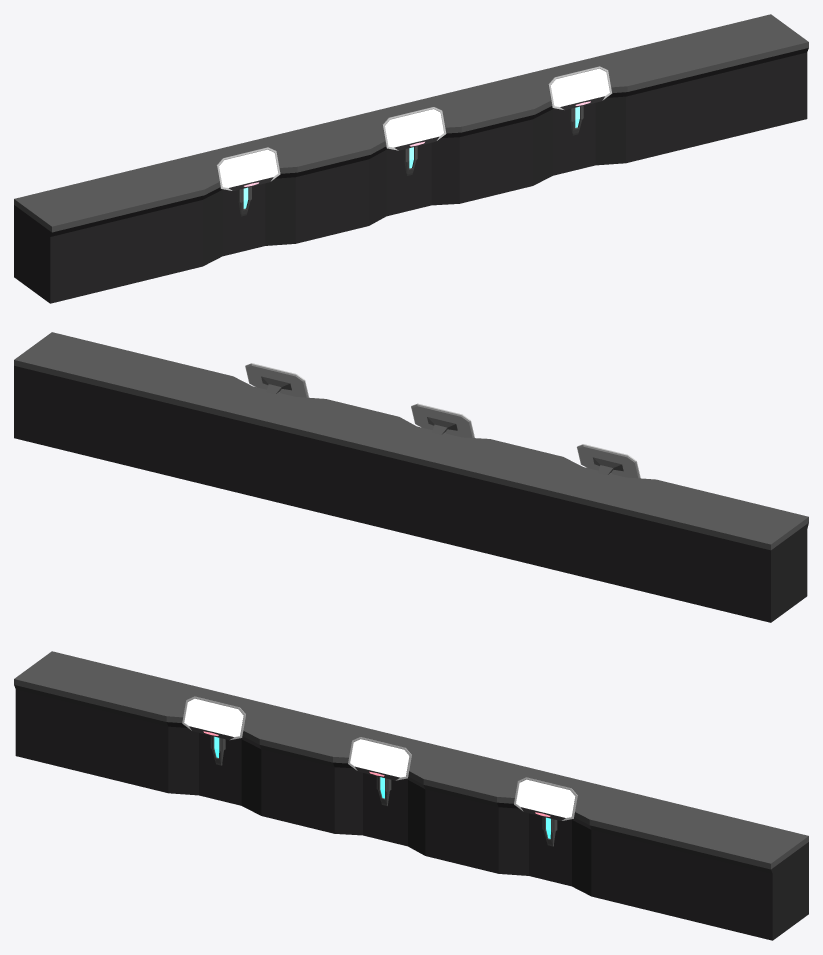
File: crafting_desk 1.fbx
3 renders of one model, top to bottom at view 1: azimuth 30°, elevation 25°; view 2: azimuth 150°, elevation 25°; view 3: azimuth 330°, elevation 25°, orthographic.
Parts seen in each view (by area): view 1: desk; view 2: desk; view 3: desk.
Part boxes in pixels (box(x1,y1,x2,y2)): desk: box(14, 14, 808, 303); desk: box(14, 332, 808, 622); desk: box(14, 651, 808, 940).
Size of the model in its own units: 2301 by 292 by 208.
